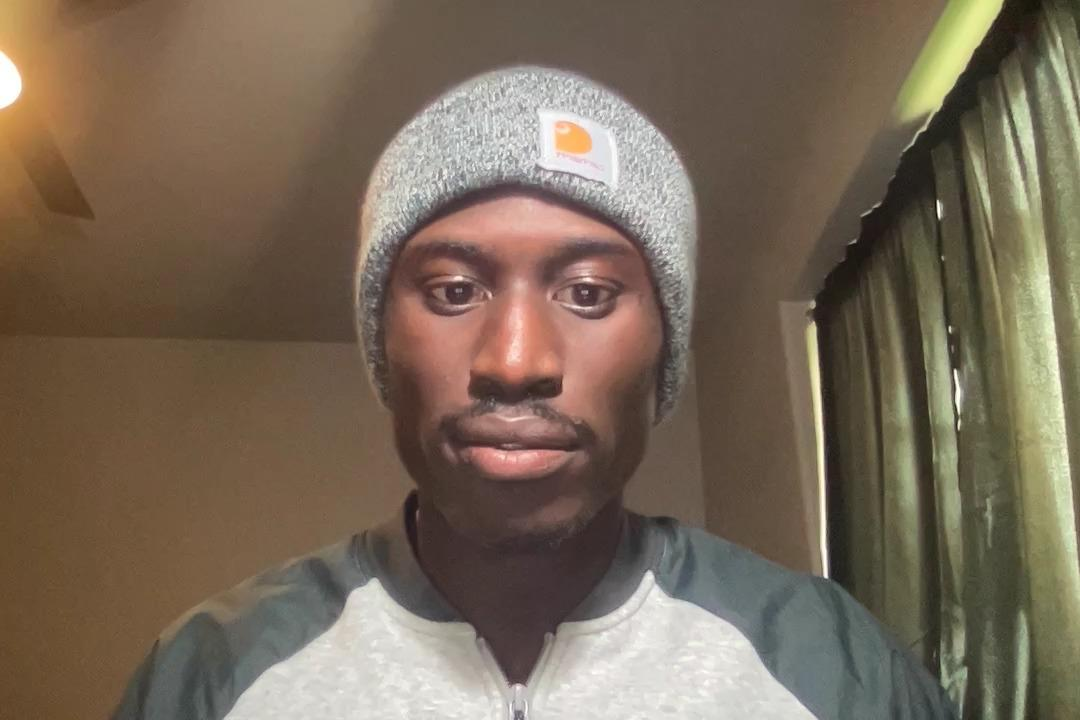face: (350, 51, 697, 553)
